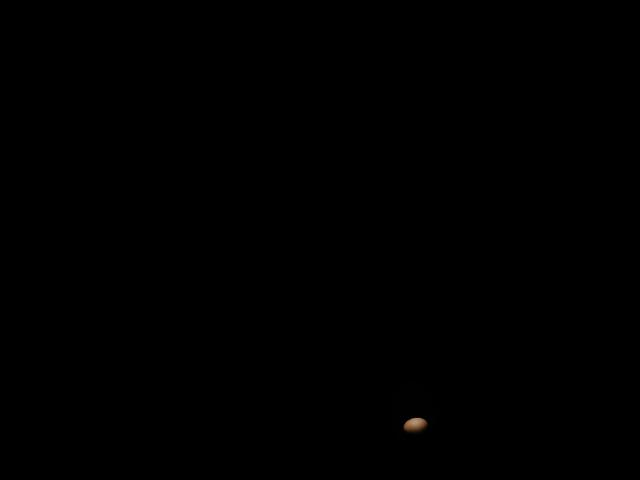egg: (401, 415, 430, 437)
